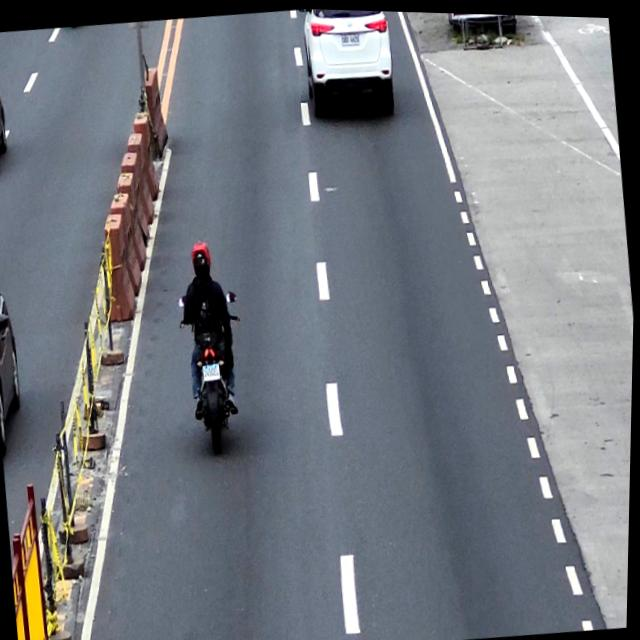Car: (296, 7, 401, 126)
License-Plate: (203, 362, 222, 379), (340, 28, 360, 44)
Motorcycle: (178, 288, 255, 455)
